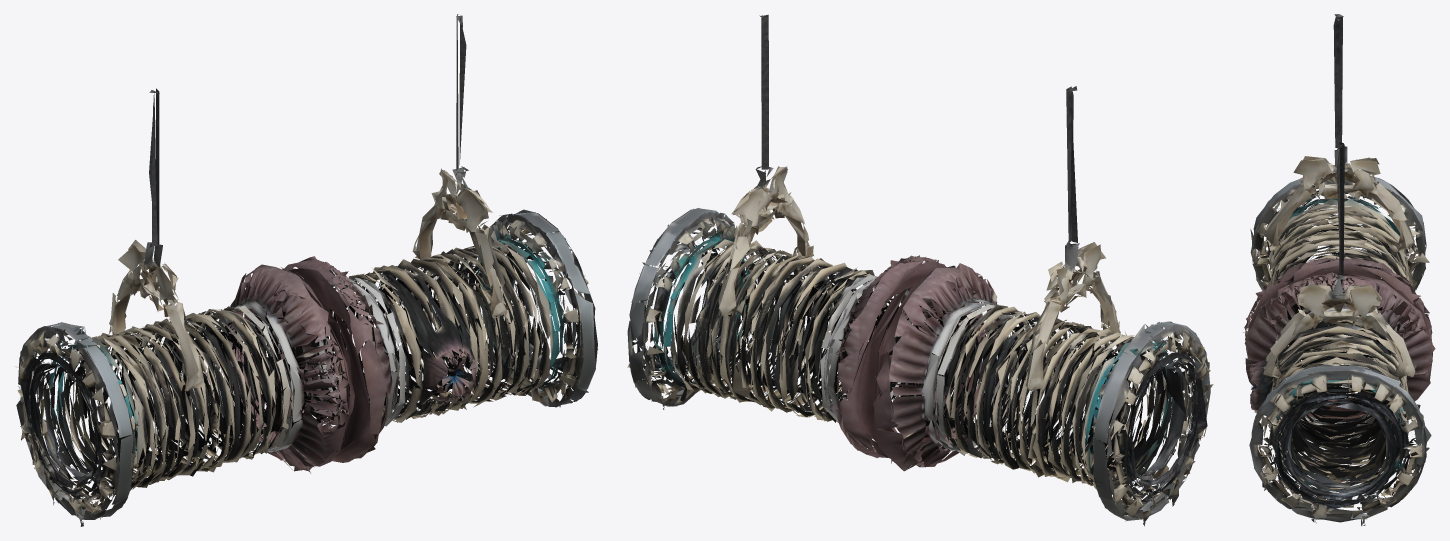
The model's file is base_o2_overhead_duct.glb.
3 renders of one model, left to right at view 1: azimuth 30°, elevation 25°; view 2: azimuth 150°, elevation 25°; view 3: azimuth 270°, elevation 25°, orthographic. The views are drawn at different scales.
Parts seen in each view (by area): view 1: node_0; view 2: node_0; view 3: node_0.
Part boxes in pixels (<box>): node_0: <box>14,14,598,526</box>; node_0: <box>627,14,1213,526</box>; node_0: <box>1243,14,1435,526</box>.
Bounding box in the file's own units: 0.9679 × 0.7516 × 0.3783.
1 material, 1 textured.
